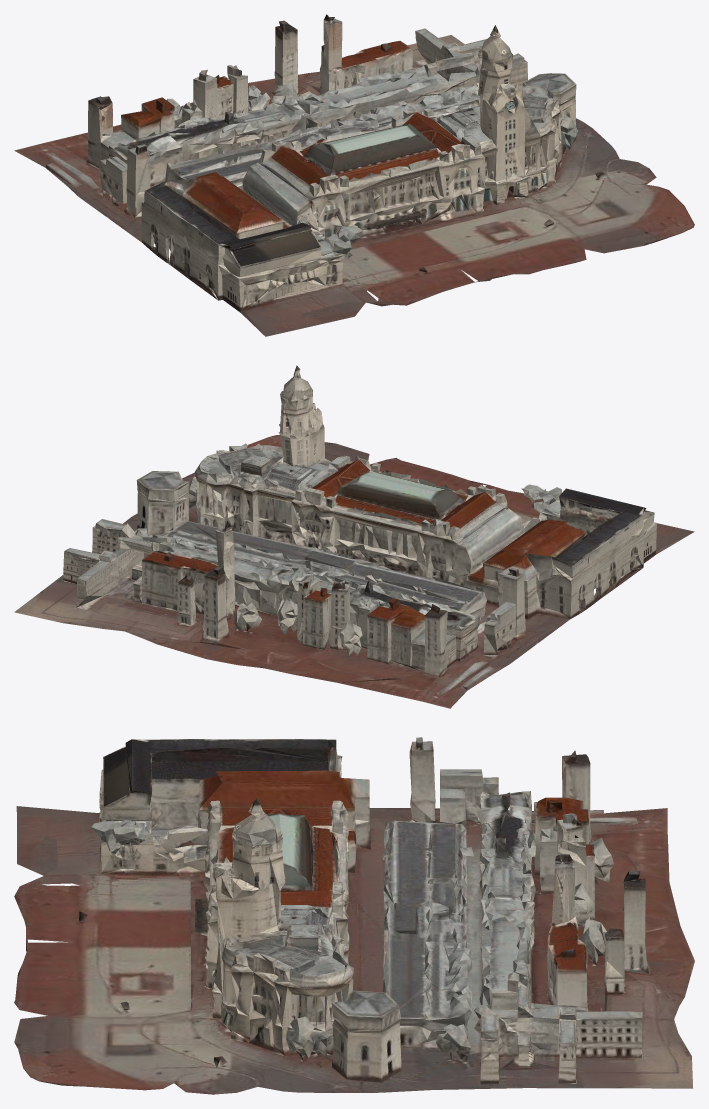
File: palacio_governo.glb
3 views of the same model, one above another, from view 1: azimuth 30°, elevation 25°; view 2: azimuth 150°, elevation 25°; view 3: azimuth 270°, elevation 25° (orthographic). The views are drawn at different scales.
Parts seen in each view (by area): view 1: output_unwrapped; view 2: output_unwrapped; view 3: output_unwrapped.
Boxes of the visible parts, x1,y1,x2,y2 form: output_unwrapped: (14, 14, 694, 336); output_unwrapped: (14, 365, 694, 708); output_unwrapped: (14, 737, 694, 1094).
Size of the model in its own units: 1.9 by 0.6611 by 1.9.
1 material, 1 textured.
